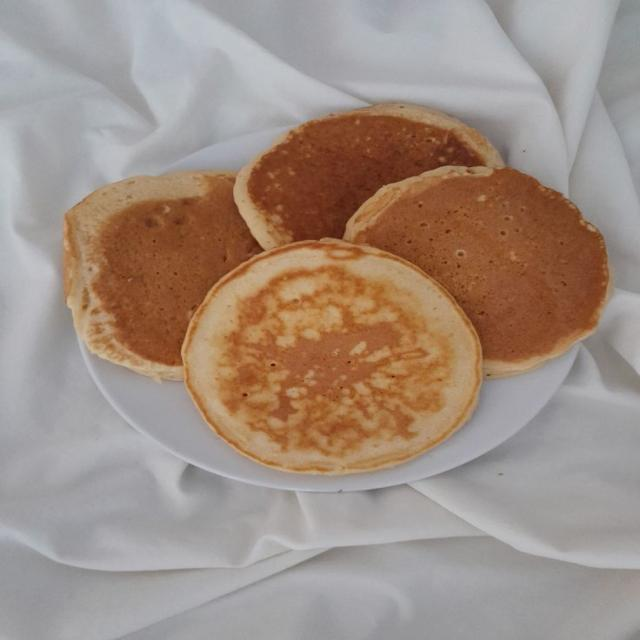pancake: (183, 240, 481, 474), (346, 168, 609, 377), (64, 172, 259, 379), (234, 104, 503, 248)
